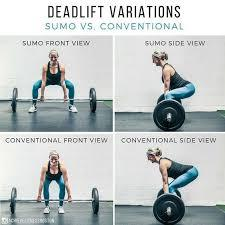Barbell: (167, 211, 174, 218), (167, 118, 173, 123)
